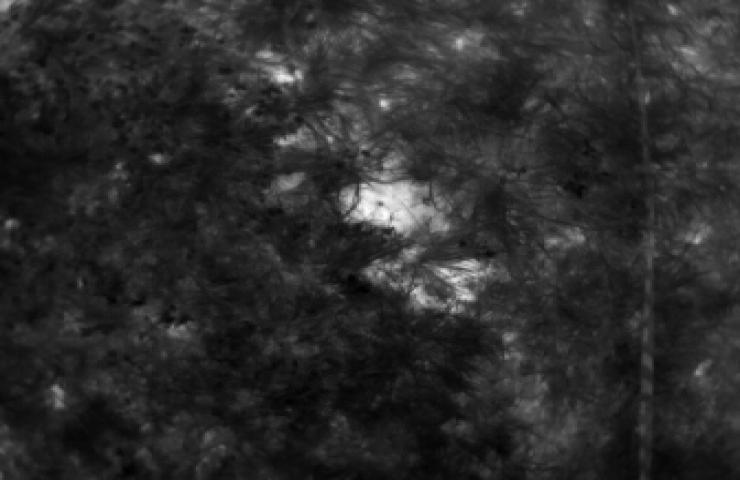landmines: (339, 156, 463, 239)
